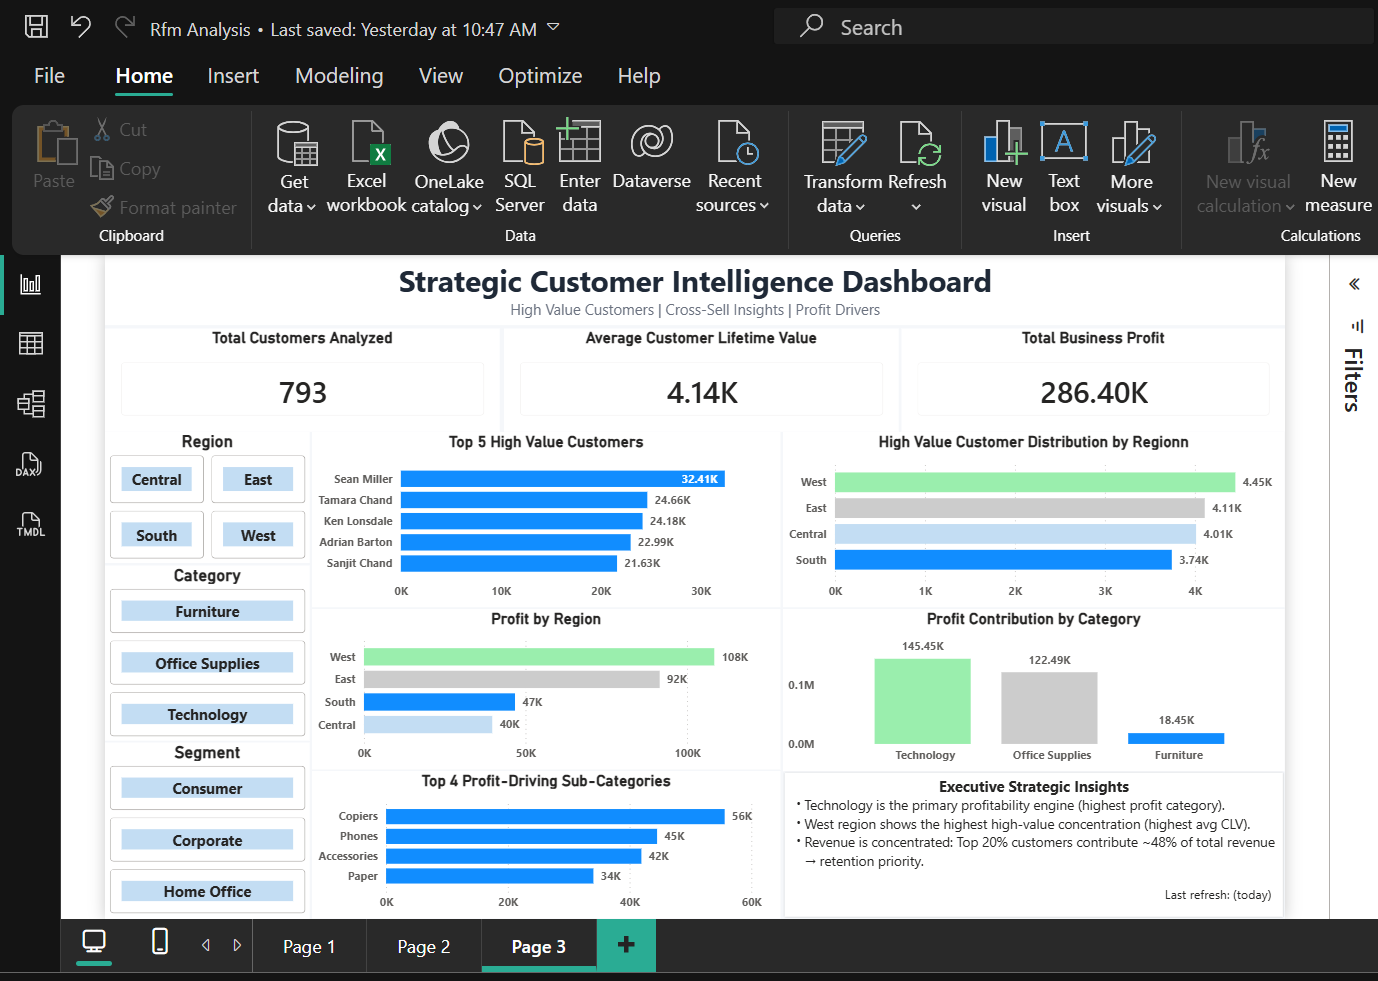

This screenshot's page, from the dashboard's own definition file:
{"tool":"powerbi","page":{"name":"Page 3","canvas":[1280,720],"ordinal":2},"visuals":[{"type":"textbox","box":[0,0,1280,76],"z":0},{"type":"cardVisual","title":"Total Customers Analyzed","fields":{"Data":["Retail.High Value Customers"]},"box":[0,80,428,112],"z":1000},{"type":"cardVisual","title":"Average Customer Lifetime Value","fields":{"Data":["Retail.Avg CLV"]},"box":[432,80,428,112],"z":2000},{"type":"clusteredBarChart","title":"Top 5 High Value Customers","fields":{"Category":["clv_results.customer_name"],"Y":["Sum(clv_results.clv_score)"]},"box":[224,192,508,190],"z":3000},{"type":"clusteredColumnChart","title":"Profit Contribution by Category","fields":{"Category":["Retail.Category"],"Y":["Sum(Retail.Profit)"]},"box":[736,384,544,176],"z":4000},{"type":"barChart","title":"High Value Customer Distribution by Regionn","fields":{"Category":["clv_results.region"],"Y":["Avg(clv_results.clv_score)"]},"box":[736,192,544,190],"z":5000},{"type":"advancedSlicerVisual","fields":{"Values":["Retail.Region"]},"box":[0,192,222,142],"z":6000},{"type":"advancedSlicerVisual","fields":{"Values":["Retail.Category"]},"box":[0,336,222,190],"z":7000},{"type":"advancedSlicerVisual","fields":{"Values":["Retail.Segment"]},"box":[0,528,222,192],"z":8000},{"type":"barChart","title":"Profit by Region","fields":{"Category":["Retail.Region"],"Y":["Sum(Retail.Profit)"]},"box":[224,384,508,174],"z":9000},{"type":"cardVisual","title":"Total Business Profit","fields":{"Data":["Retail.Total Profit"]},"box":[864,80,416,112],"z":10000},{"type":"clusteredBarChart","title":"Top 4 Profit-Driving Sub-Categories","fields":{"Category":["Retail.Sub_Category"],"Y":["Sum(Retail.Profit)"]},"box":[224,559,508,160],"z":10001},{"type":"shape","box":[736,560,544,160],"z":10002},{"type":"textbox","box":[736,560,544,160],"z":10003}]}

Visuals, with their boxes on the page's 1280x720 design canvas (x1, y1, x2, y2). These are canvas units, not pixel positions in the 1378x981 screenshot, which may show the page scaled, cropped or inside an application window:
textbox: l=0, t=0, r=1280, b=76
"Total Customers Analyzed" cardVisual: l=0, t=80, r=428, b=192
"Average Customer Lifetime Value" cardVisual: l=432, t=80, r=860, b=192
"Top 5 High Value Customers" clusteredBarChart: l=224, t=192, r=732, b=382
"Profit Contribution by Category" clusteredColumnChart: l=736, t=384, r=1280, b=560
"High Value Customer Distribution by Regionn" barChart: l=736, t=192, r=1280, b=382
advancedSlicerVisual - Retail.Region: l=0, t=192, r=222, b=334
advancedSlicerVisual - Retail.Category: l=0, t=336, r=222, b=526
advancedSlicerVisual - Retail.Segment: l=0, t=528, r=222, b=720
"Profit by Region" barChart: l=224, t=384, r=732, b=558
"Total Business Profit" cardVisual: l=864, t=80, r=1280, b=192
"Top 4 Profit-Driving Sub-Categories" clusteredBarChart: l=224, t=559, r=732, b=719
shape: l=736, t=560, r=1280, b=720
textbox: l=736, t=560, r=1280, b=720
